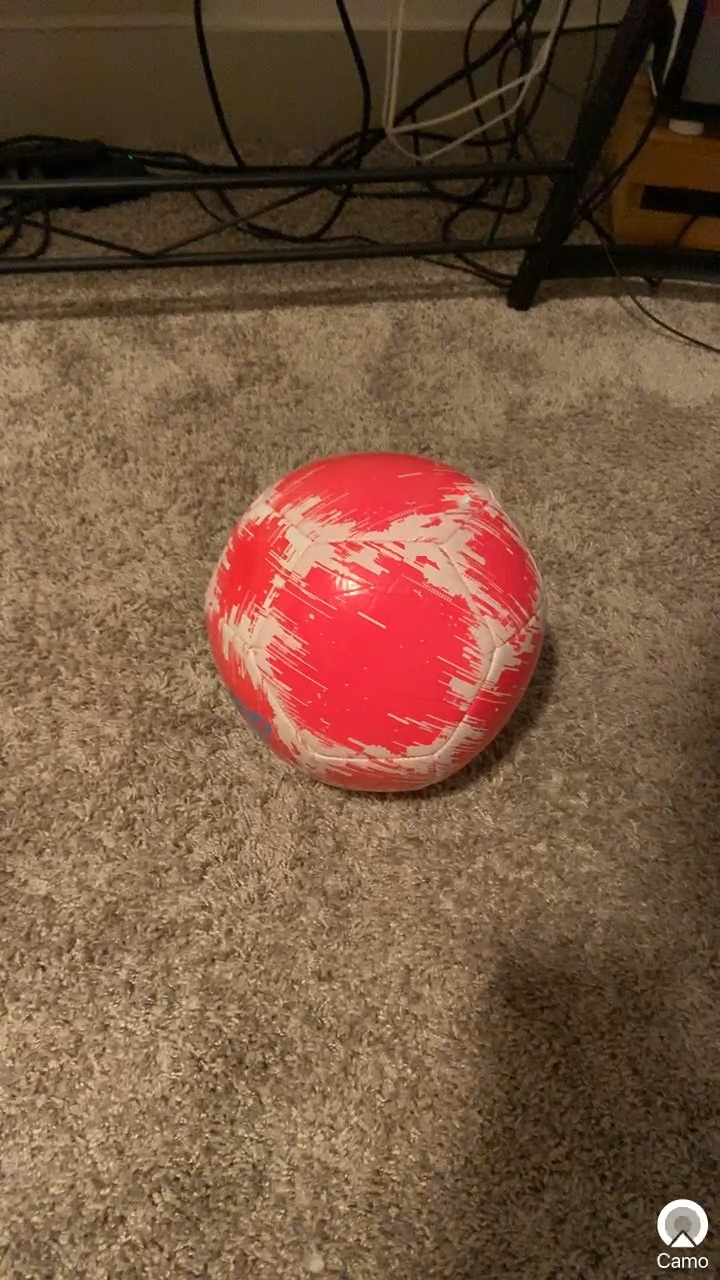Soccer_Ball: (197, 435, 585, 814)
